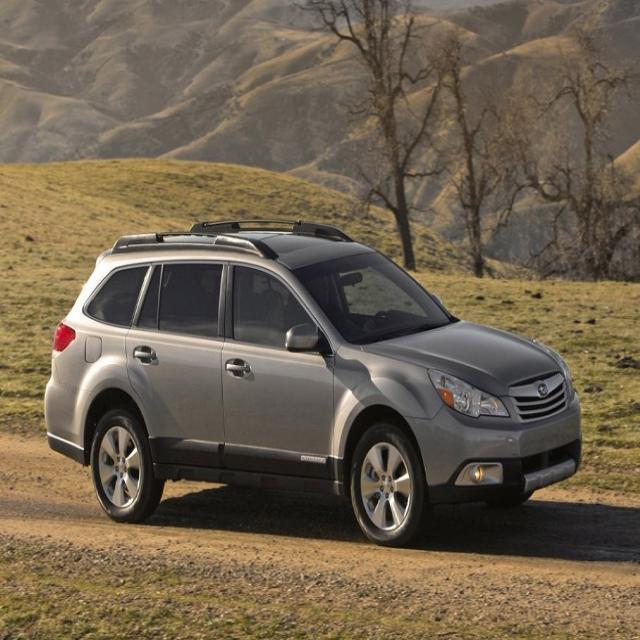back_right_side_light: (49, 317, 79, 357)
door: (124, 250, 232, 482)
front_bumper: (404, 387, 581, 505)
front_glass: (287, 246, 454, 348)
front_right_side_door: (216, 256, 338, 486)
front_right_side_light: (425, 361, 512, 421)
front_right_side_mirror: (282, 319, 322, 356)
rear_bumper: (44, 360, 90, 461)
wheel: (349, 422, 423, 544), (90, 411, 155, 522)
